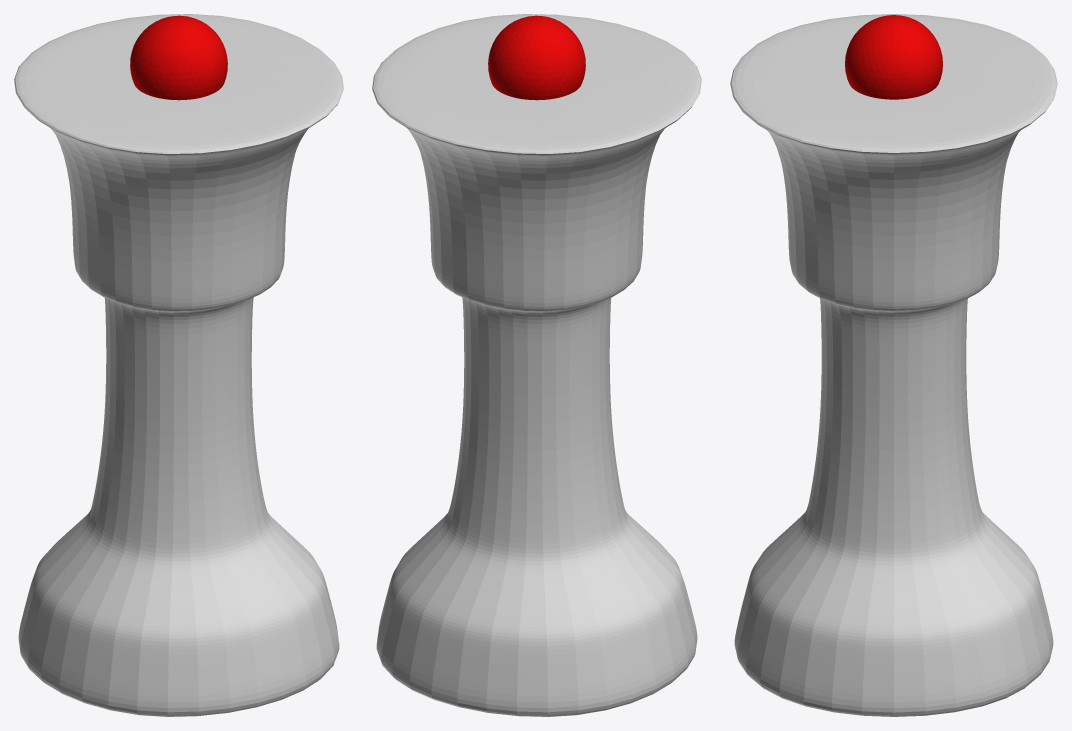
File: Chess_Canservacioner.fbx
The picture shows the model from 3 angles, left to right: view 1: azimuth 30°, elevation 25°; view 2: azimuth 150°, elevation 25°; view 3: azimuth 270°, elevation 25°; orthographic projection.
Visible parts, largest first — view 1: Cube; view 2: Cube; view 3: Cube.
Part boxes in pixels (x1,y1,x2,y2): Cube: (14,14,343,716); Cube: (372,14,701,716); Cube: (730,14,1057,716).
Size of the model in its own units: 82.6 by 177 by 82.6.
